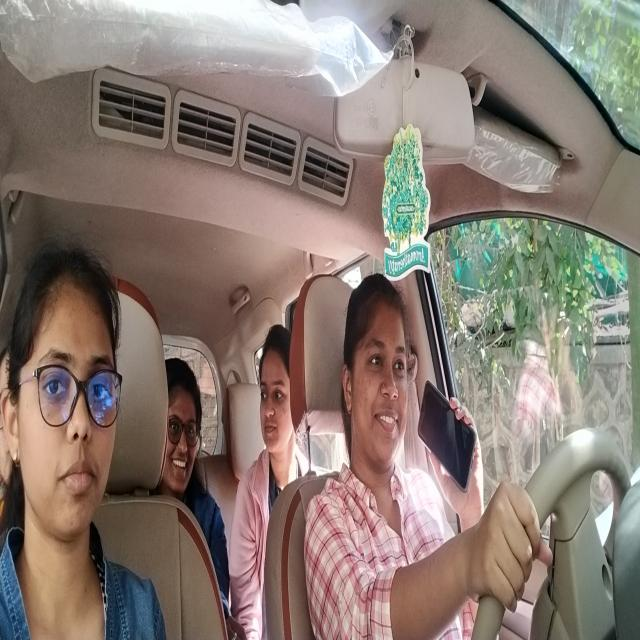mobile: (418, 379, 478, 497)
person: (5, 244, 131, 551), (343, 266, 412, 484), (165, 347, 208, 508), (257, 316, 299, 474)
